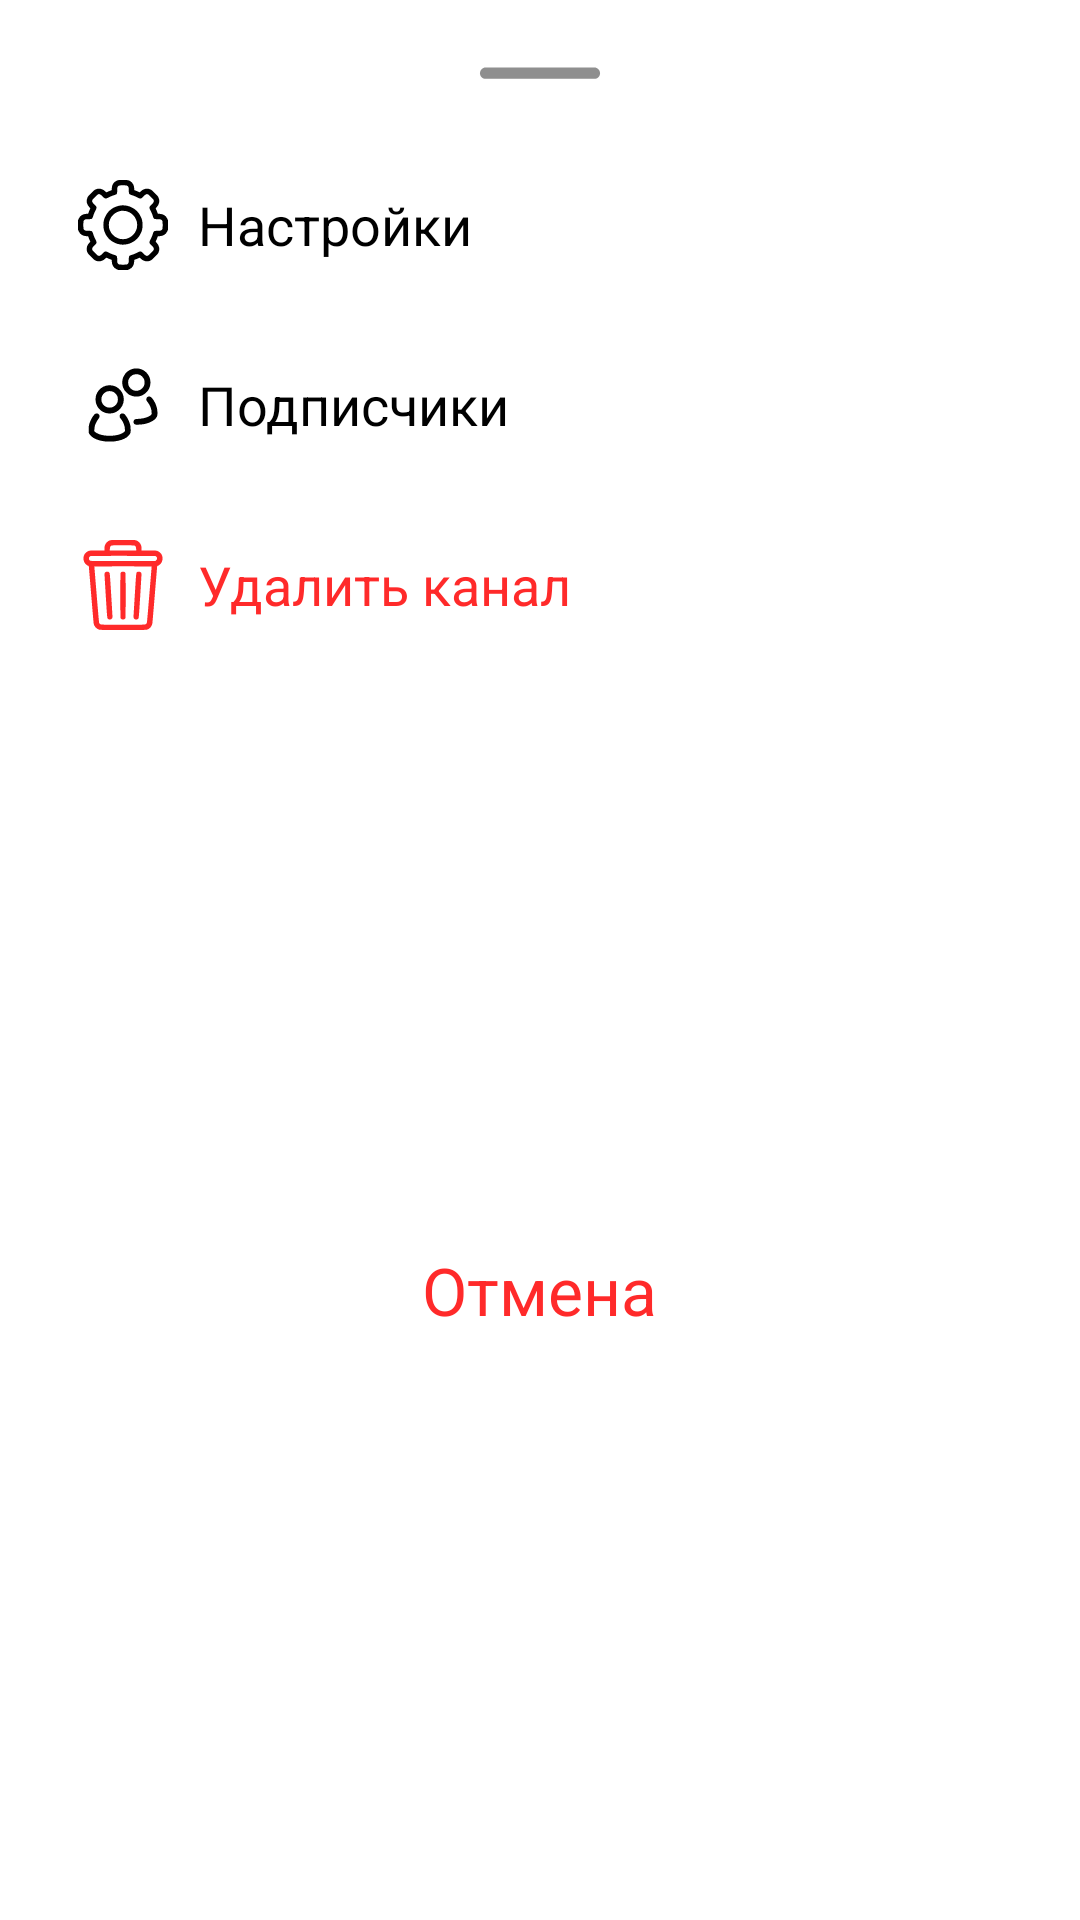

Icons on this 1080 x 1920 Android screen, each with the point to tap as (x=x, y=y):
bin: (x=123, y=585)
settings: (x=123, y=225)
